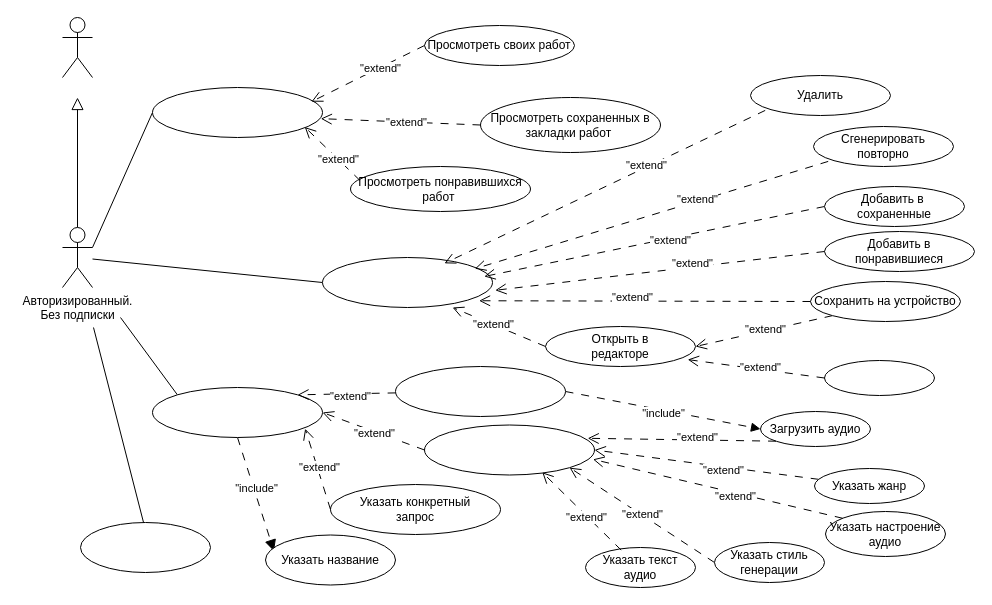
Some shapes in this 992 by 605 pixel diagram are drawn without their labels. The shapes that lost their labels are listed below. From the top down, each one's box as (x1, y1, x2, y2) in pixels, then its label:
(62, 16, 92, 78): Неавторизированный
(152, 86, 322, 138): Взаимодейтсвие с коллекцией
(322, 256, 492, 308): Взаимодейтсвие с обложкой
(394, 366, 566, 416): Автоматическая генерация
(824, 360, 934, 396): Применить фильтры
(152, 386, 322, 438): Сгенерировать о бложку
(424, 424, 594, 475): Детальная настройка
(80, 522, 210, 572): Оплатить подписку
